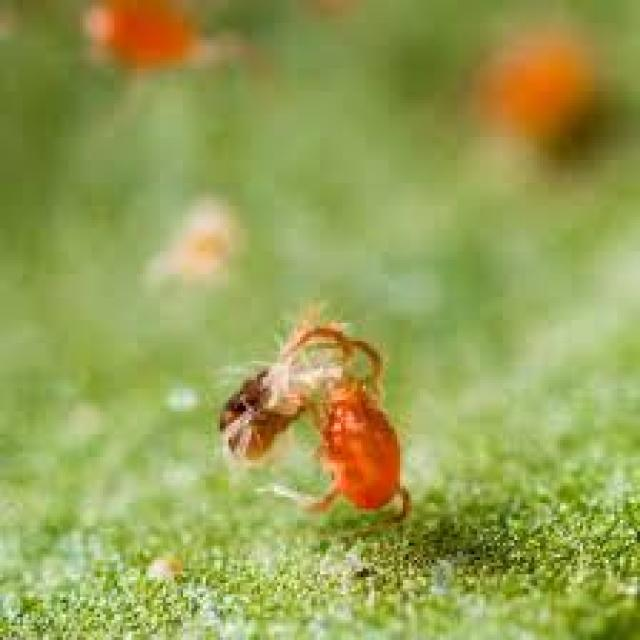Mites: (207, 297, 431, 540)
